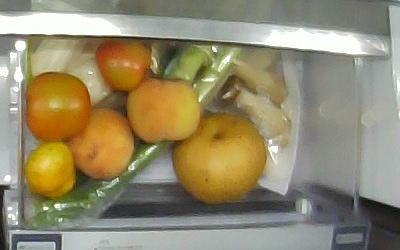peach: (126, 78, 200, 142), (68, 109, 133, 178)
pear: (174, 112, 266, 204)
tangerine: (26, 143, 76, 196)
tomato: (26, 72, 90, 140), (95, 42, 149, 90)
